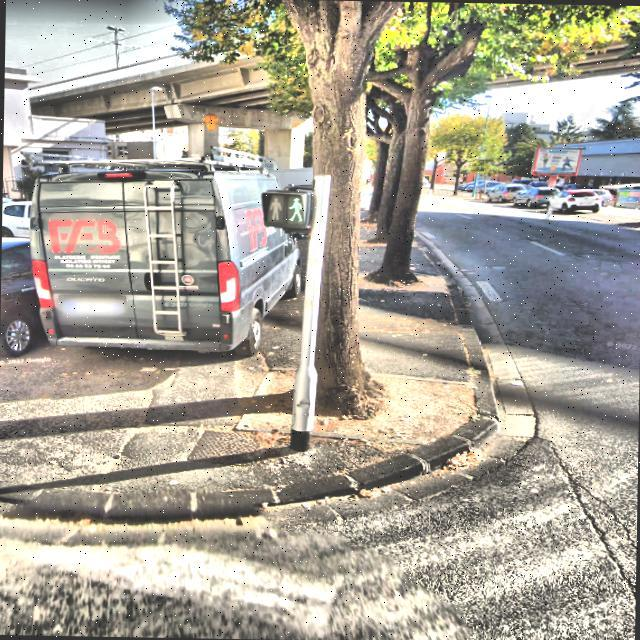green_light: (284, 192, 306, 222)
